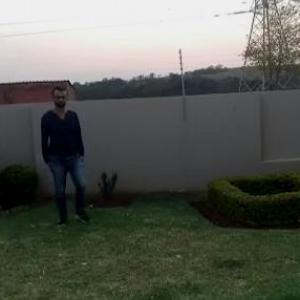follow: (40, 84, 87, 229)
